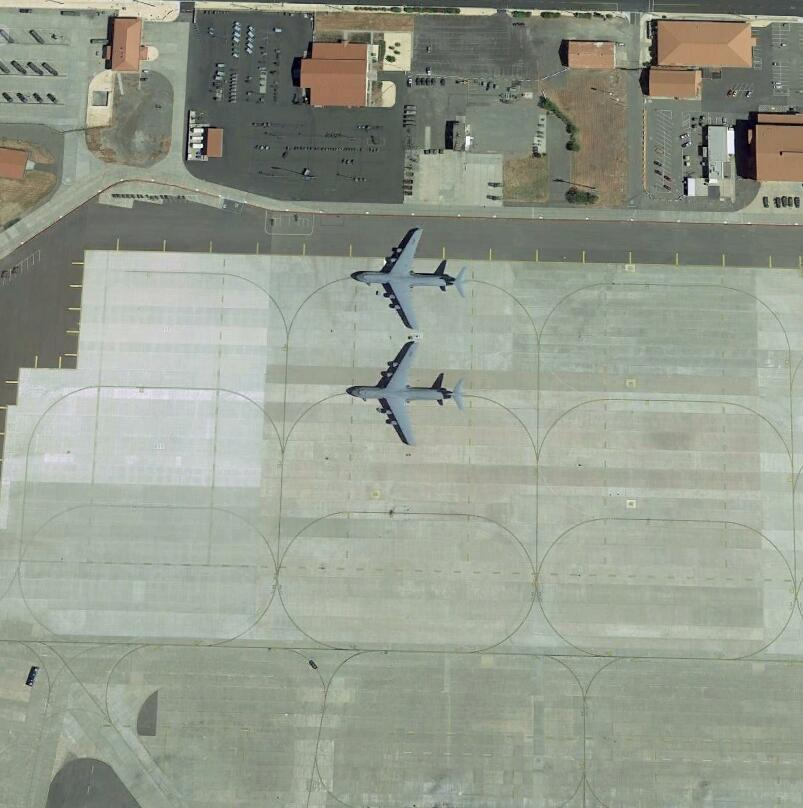A4: (348, 342, 466, 449), (354, 227, 470, 330)
